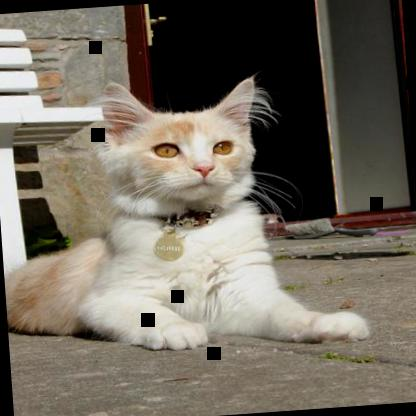cat: (0, 65, 368, 368)
